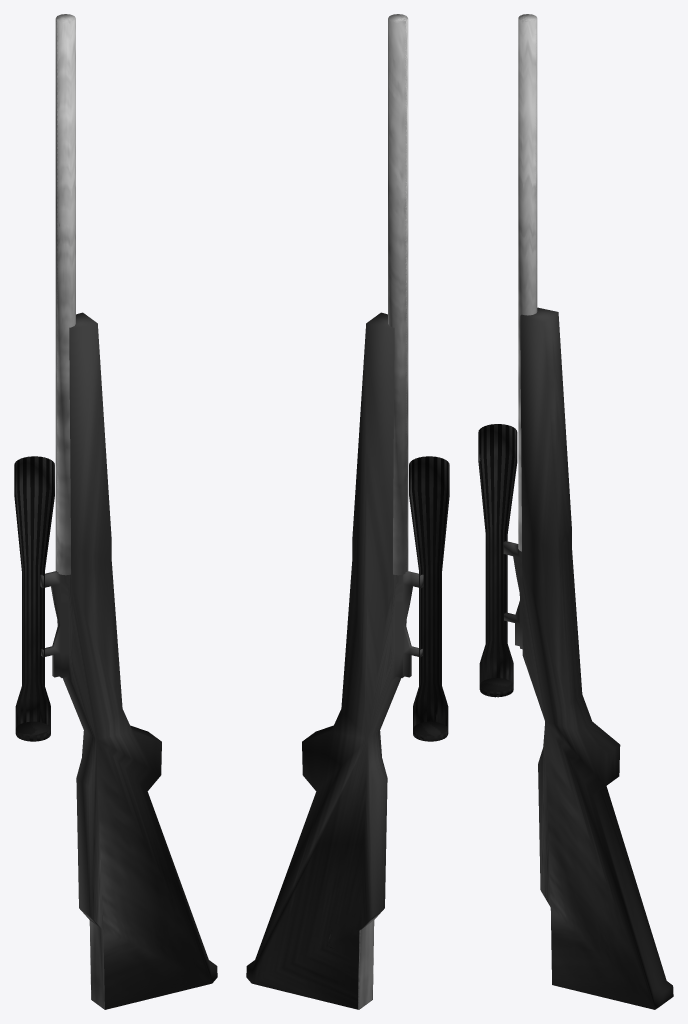
File: RifleV2.glb
3 views of the same model, side by side, from view 1: azimuth 30°, elevation 25°; view 2: azimuth 150°, elevation 25°; view 3: azimuth 330°, elevation 25° (orthographic). The views are drawn at different scales.
Visible parts, largest first — view 1: Rifle; view 2: Rifle; view 3: Rifle.
Boxes of the visible parts, left/top/right/bottom form: Rifle: left=14, top=14, right=217, bottom=1009; Rifle: left=246, top=14, right=449, bottom=1009; Rifle: left=478, top=14, right=673, bottom=1009.
Bounding box in the file's own units: 0.8868 × 4.35 × 0.1615.
1 material, 1 textured.
